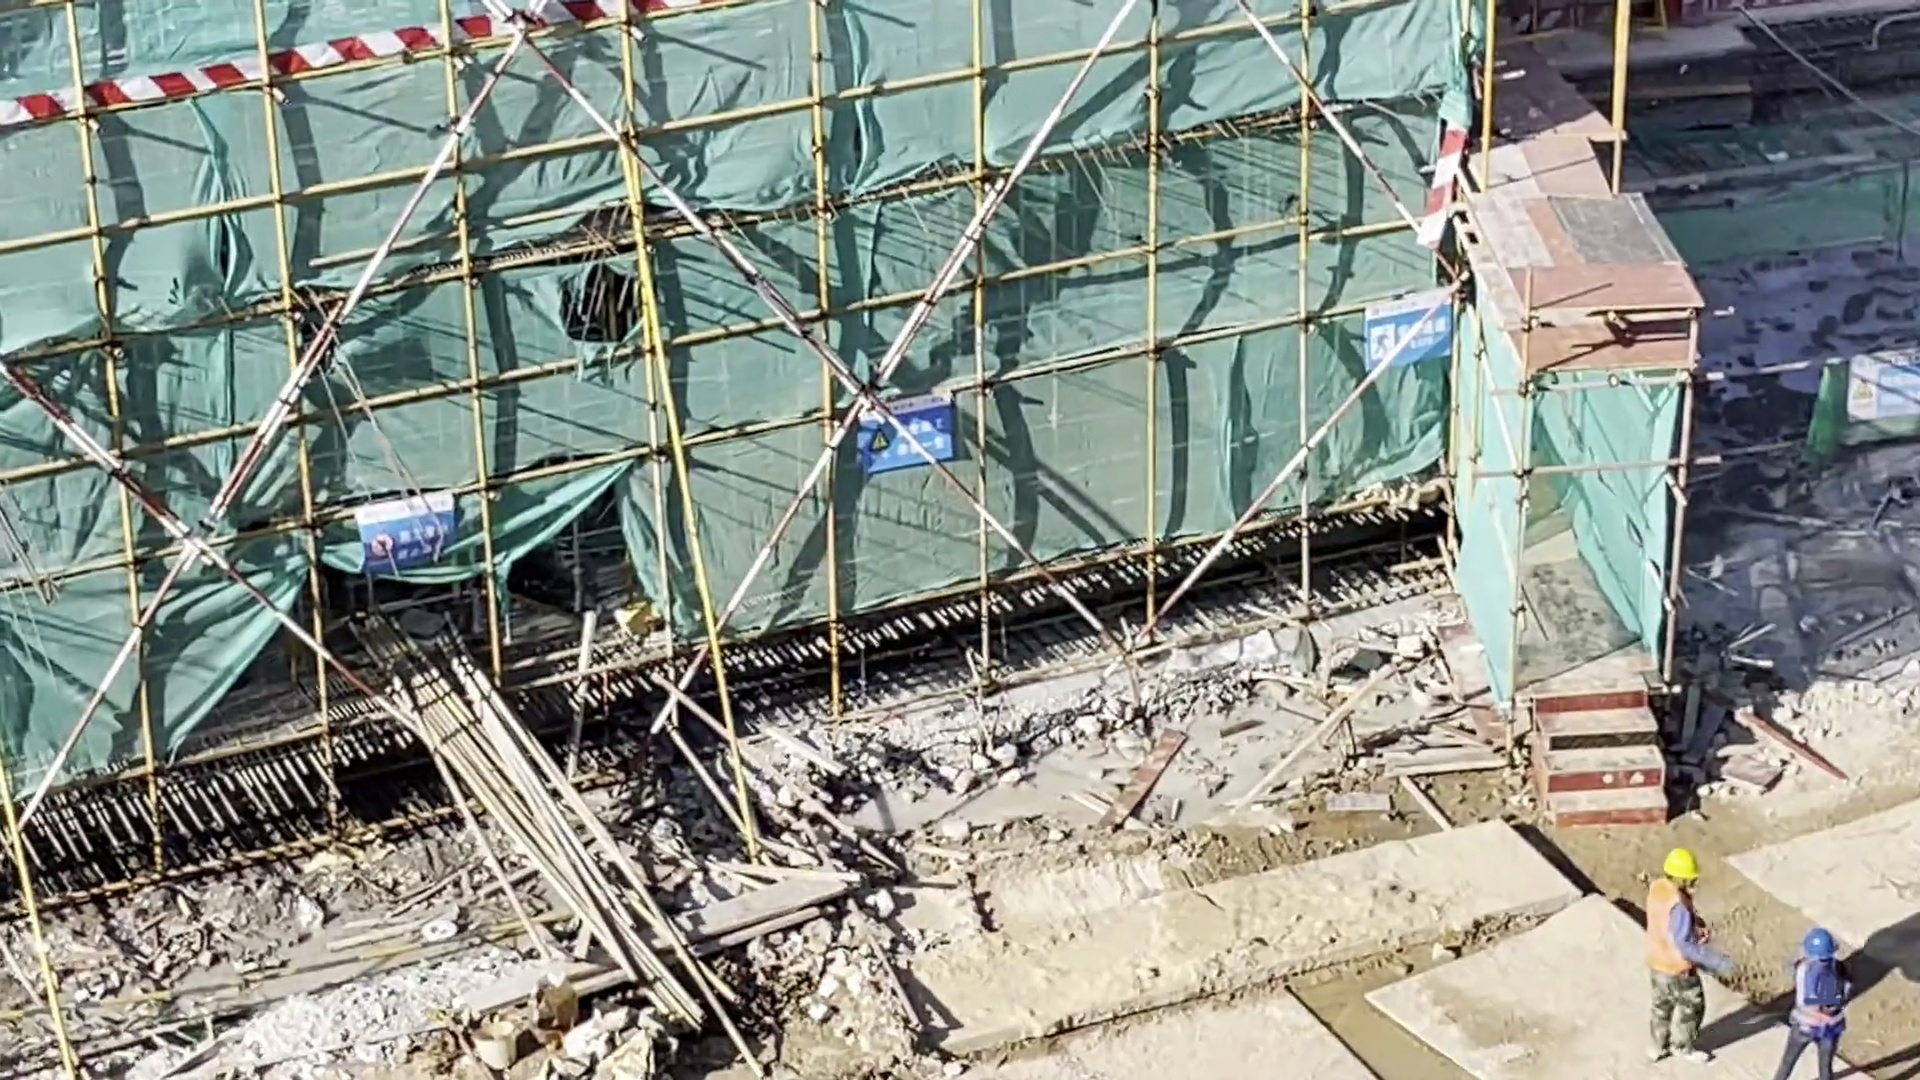helmet: (1658, 838, 1707, 885), (1799, 923, 1844, 961)
person: (1628, 837, 1748, 1072), (1778, 920, 1851, 1080)
vest: (1643, 876, 1699, 986), (1789, 964, 1848, 1041)
